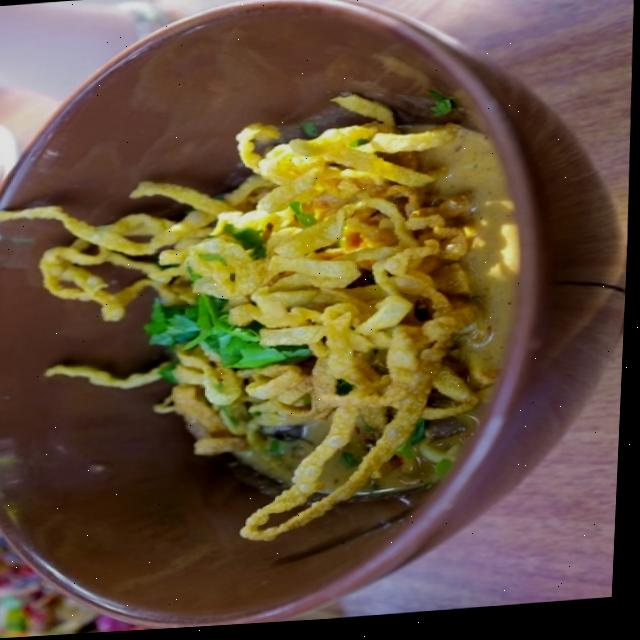面条主食: (0, 0, 575, 627)
